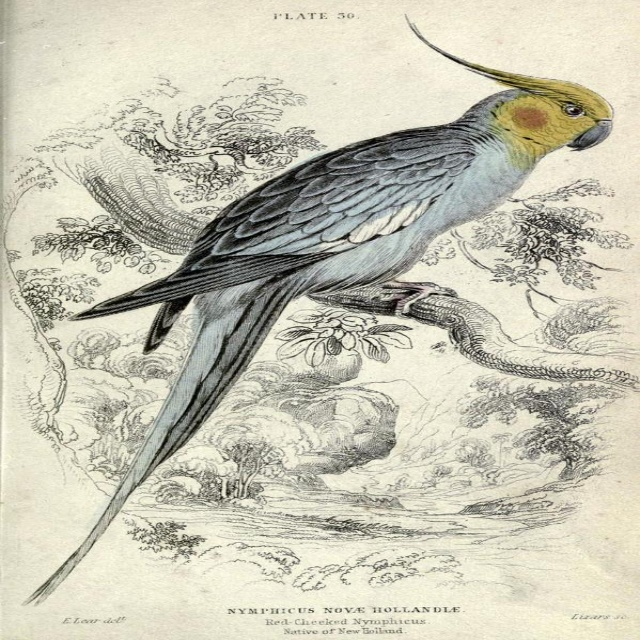Parrot: (20, 12, 615, 607)
